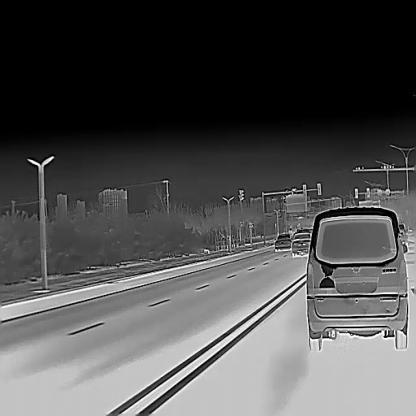car: (306, 205, 408, 350), (290, 229, 312, 258), (273, 232, 292, 250), (396, 221, 407, 240)
